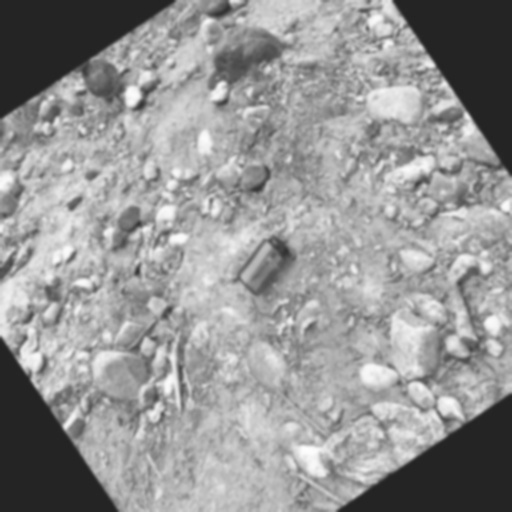bottle: (228, 228, 305, 300)
